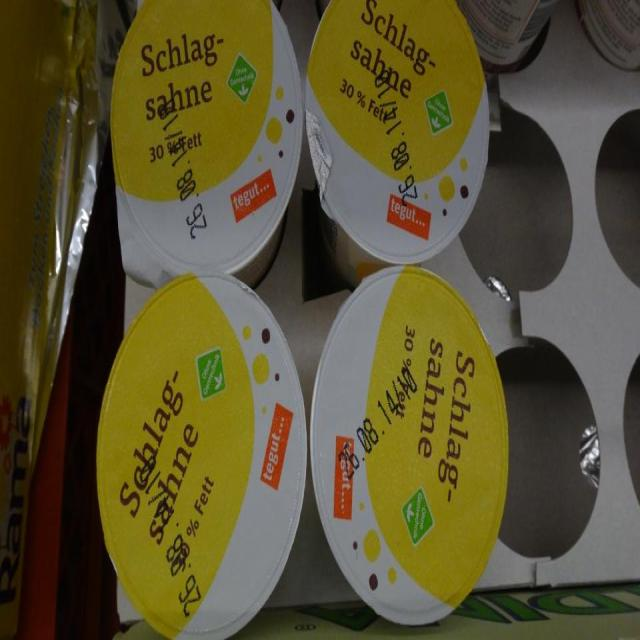cream: (97, 273, 307, 639), (311, 265, 507, 625), (111, 0, 302, 288), (305, 0, 489, 287), (458, 0, 556, 72)
